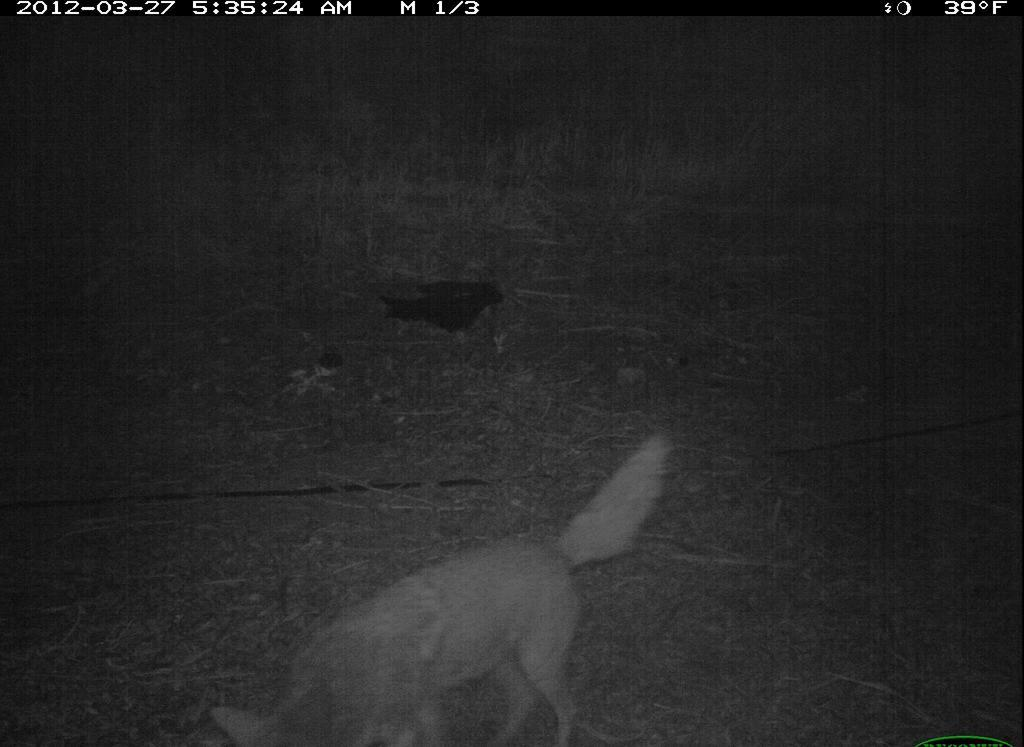coyote: (207, 421, 683, 747)
